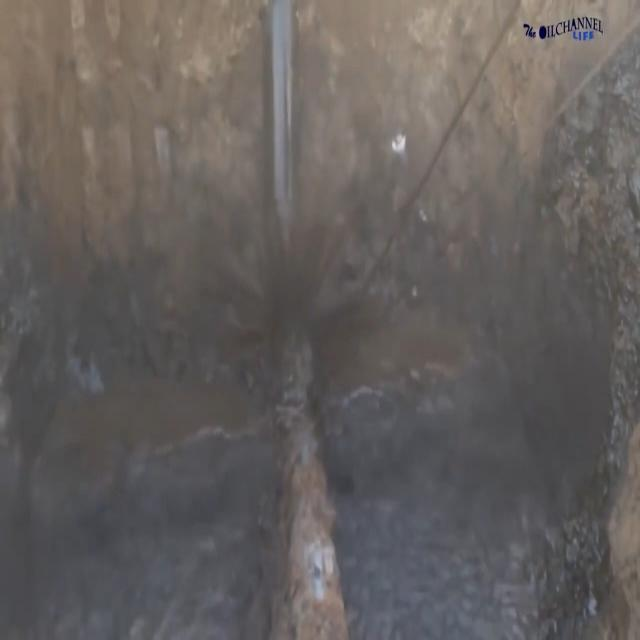spillage: (0, 368, 569, 640), (217, 226, 379, 374)
